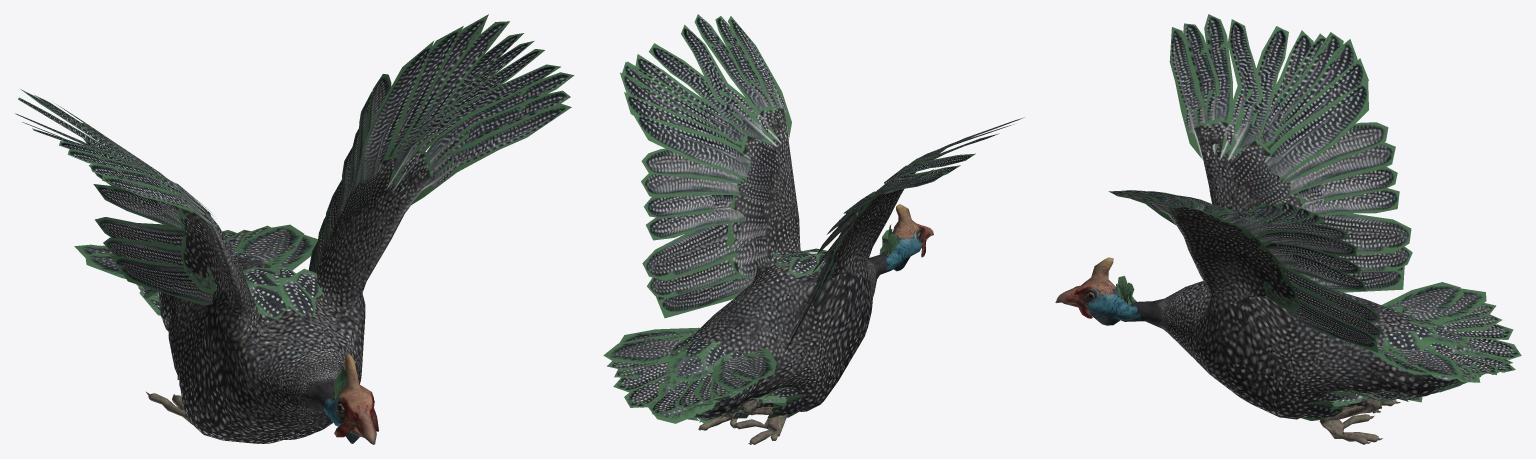
The model's file is guineafowl.glb.
3 renders of one model, left to right at view 1: azimuth 30°, elevation 25°; view 2: azimuth 150°, elevation 25°; view 3: azimuth 270°, elevation 25°, orthographic. The views are drawn at different scales.
Parts seen in each view (by area): view 1: Guineafowl001_applied_clean_M_Guineafowl_0_M_Guineafowl_0; view 2: Guineafowl001_applied_clean_M_Guineafowl_0_M_Guineafowl_0; view 3: Guineafowl001_applied_clean_M_Guineafowl_0_M_Guineafowl_0.
Boxes of the visible parts, <box> form: Guineafowl001_applied_clean_M_Guineafowl_0_M_Guineafowl_0: <box>15,14,574,444</box>; Guineafowl001_applied_clean_M_Guineafowl_0_M_Guineafowl_0: <box>603,14,1024,444</box>; Guineafowl001_applied_clean_M_Guineafowl_0_M_Guineafowl_0: <box>1055,14,1521,444</box>.
Size of the model in its own units: 0.6661 by 0.5271 by 0.7129.
1 material, 1 textured.
